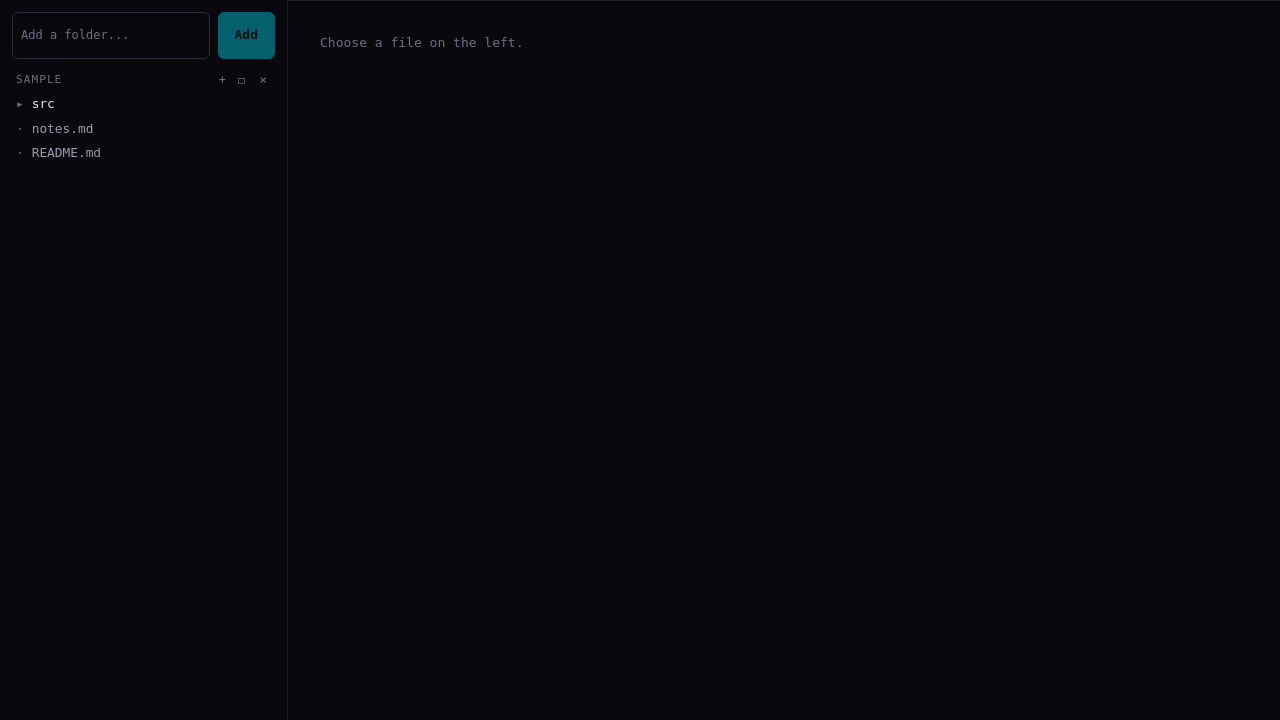
Test: making, renaming and removing › makes a new folder without opening anything
This screenshot has width=1280, height=720.
Check: the button "· README.md" is shown, box [8, 141, 279, 166]
Click the button named "New folder in sample". click: (242, 80)
box: [236, 74, 247, 86]
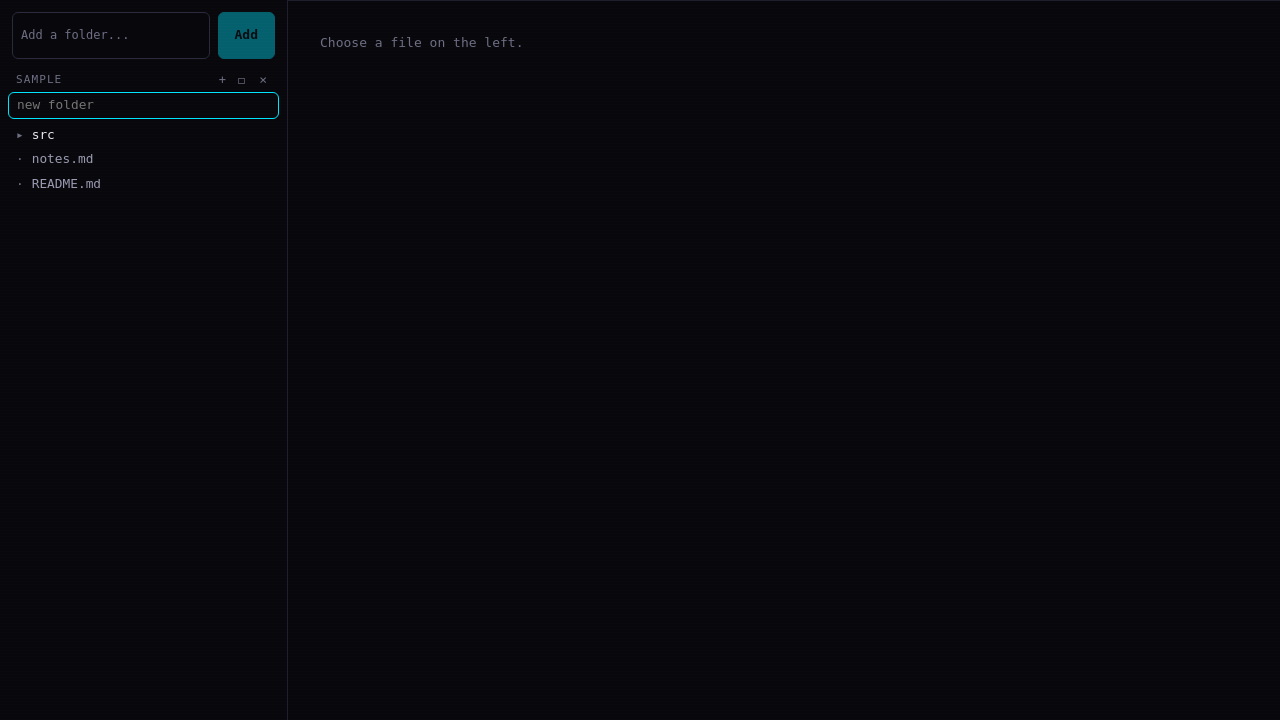
Type "docs" into the field labelled "new folder". click: (144, 106)
box: [8, 92, 279, 119]
Then press Enter
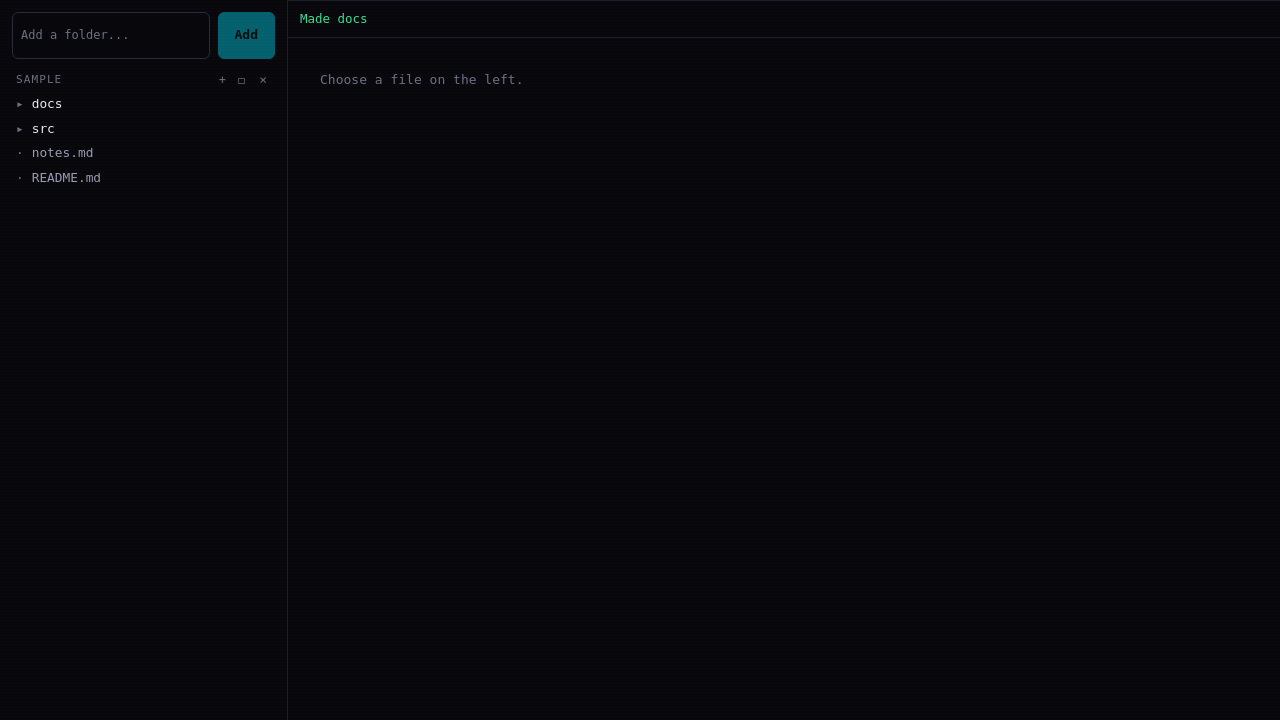
Check: the button "▸ docs" is shown, box [8, 92, 279, 117]
